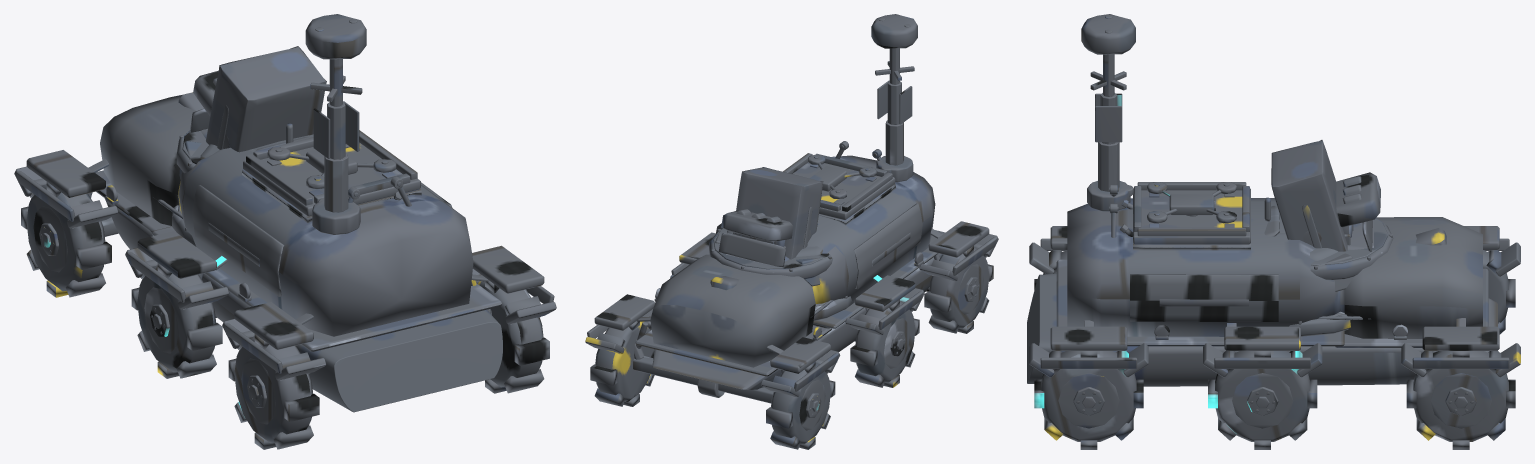
Rendered from CommandRelay_Atlas.fbx.
3 views of the same model, side by side, from view 1: azimuth 30°, elevation 25°; view 2: azimuth 150°, elevation 25°; view 3: azimuth 270°, elevation 25° (orthographic). The views are drawn at different scales.
Parts seen in each view (by area): view 1: CommandRelay_UnifiedMesh; view 2: CommandRelay_UnifiedMesh; view 3: CommandRelay_UnifiedMesh.
Boxes of the visible parts, box(x1,y1,x2,y2) form: CommandRelay_UnifiedMesh: box(14, 14, 556, 449); CommandRelay_UnifiedMesh: box(585, 14, 998, 449); CommandRelay_UnifiedMesh: box(1027, 14, 1520, 449).
Bounding box in the file's own units: 231 × 312 × 398.
Materials: 1 (1 with a texture image).
